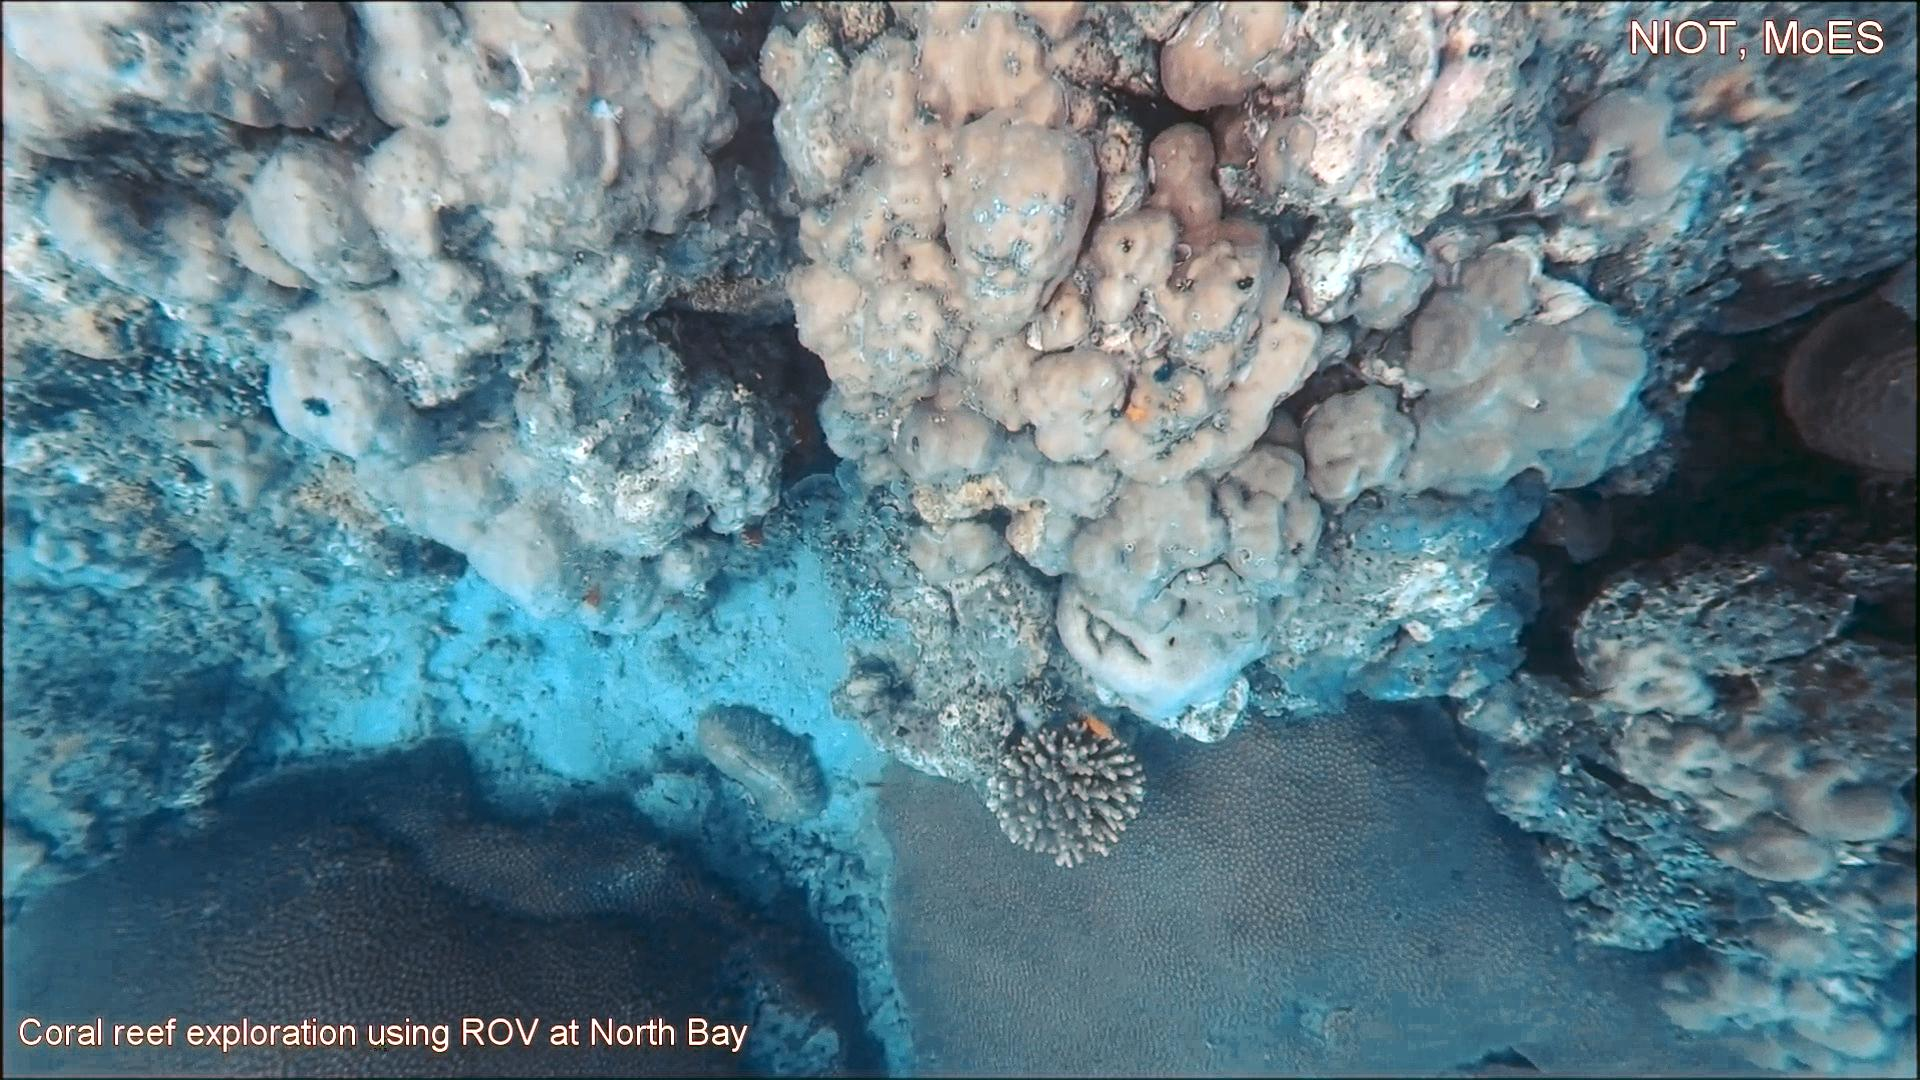Meandrina meandrites: (1772, 243, 1920, 495)
